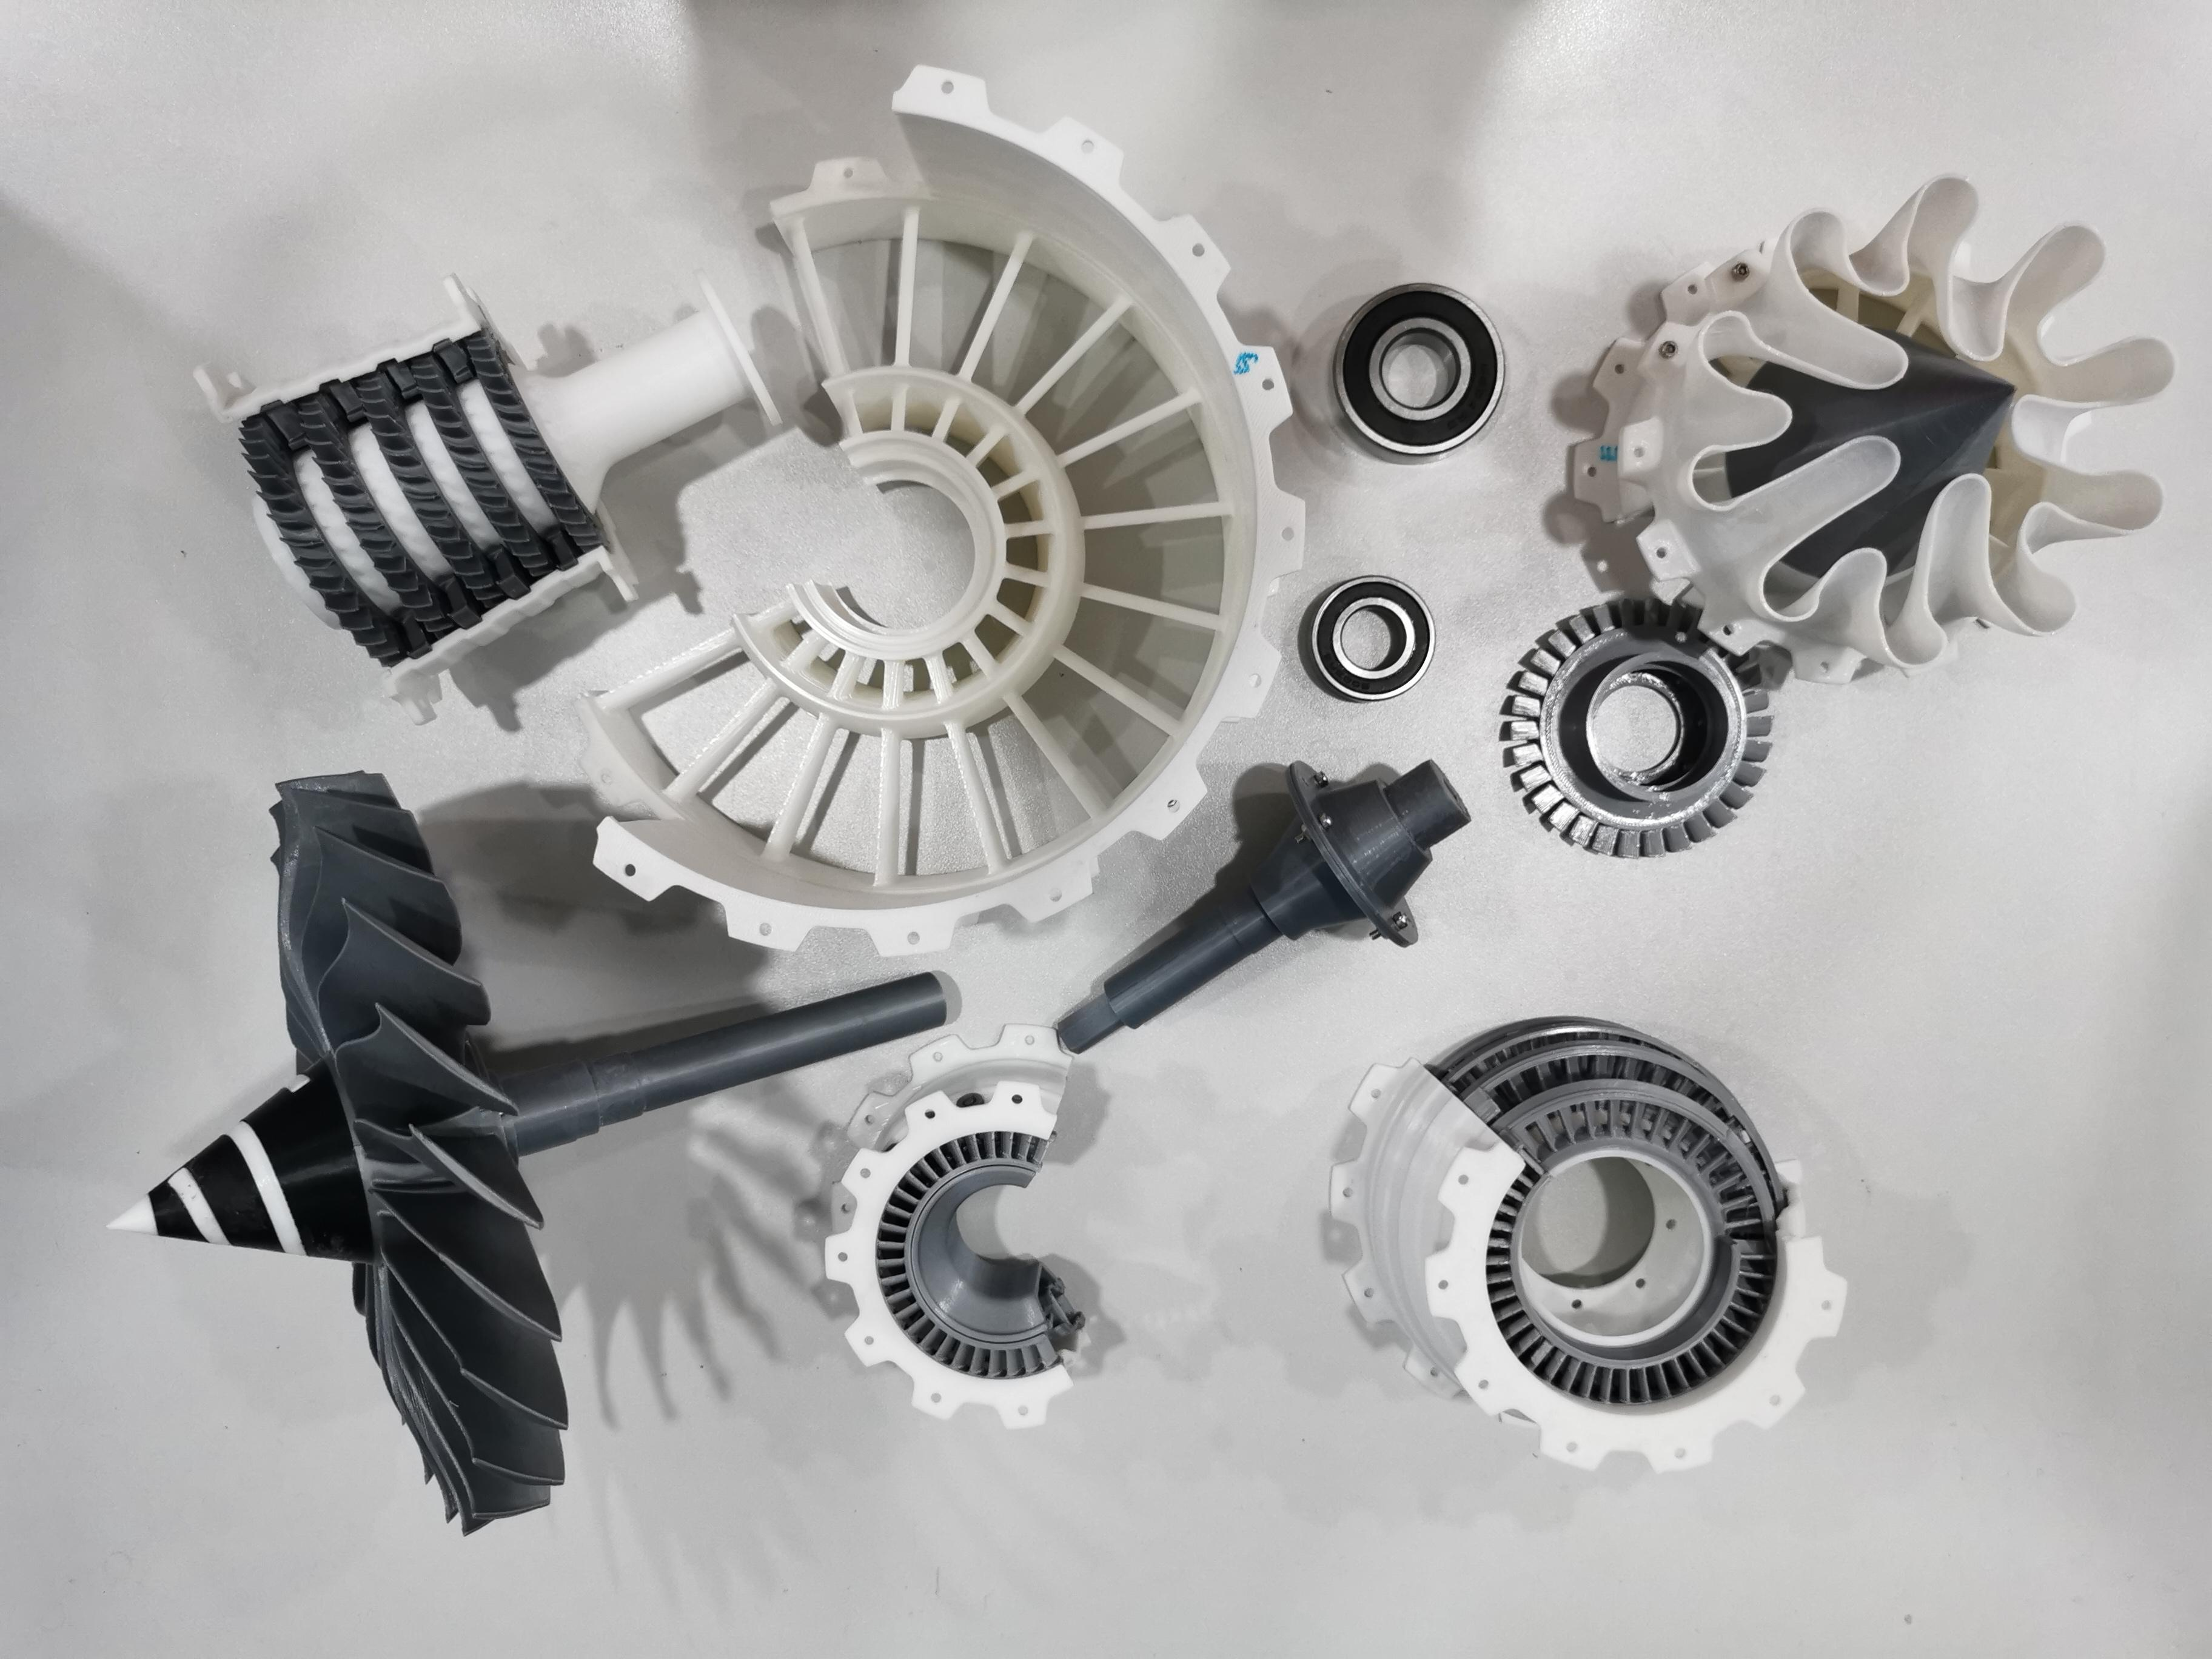Bearing-6003: (1296, 556, 1461, 709)
Bearing-6204: (1303, 267, 1527, 479)
Combustion Section: (812, 1014, 1115, 1439)
Fan Casing and Support: (568, 51, 1315, 967)
Fan and Low Pressure Shaft: (99, 741, 968, 1554)
HPT Section: (1489, 570, 1787, 871)
High Pressure Spool: (183, 251, 786, 730)
LPT Section: (1312, 1007, 1855, 1480)
Low Pressure Spool: (1052, 748, 1477, 1066)
Nozzle Section: (1550, 166, 2186, 697)
